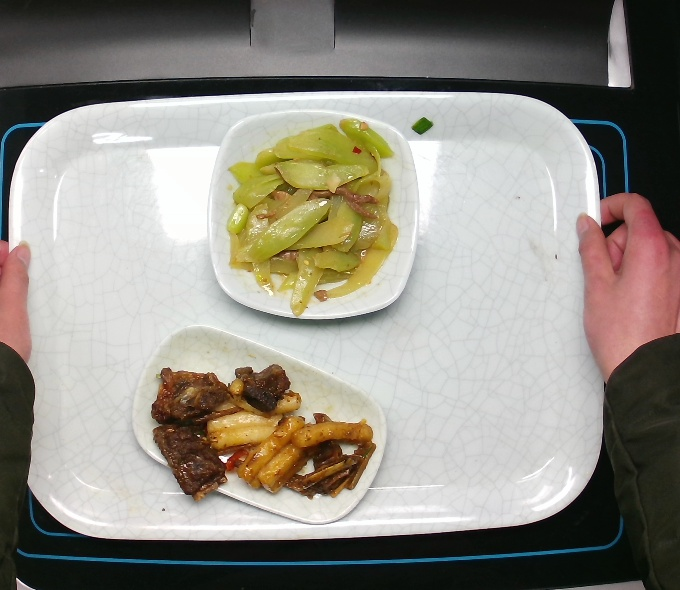wcq-NianGaoZaiPai: (147, 352, 392, 507)
wcq-WoSun: (217, 107, 420, 323)
